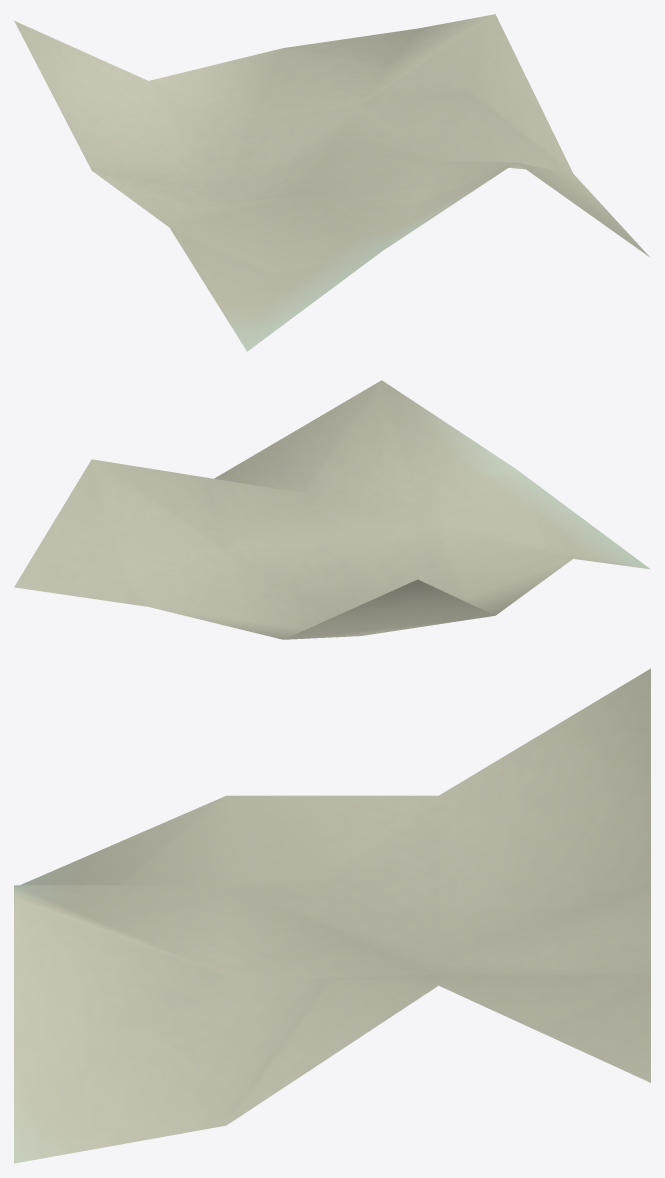
Rendered from trash03_mesh.fbx.
The picture shows the model from 3 angles, top to bottom: view 1: azimuth 30°, elevation 25°; view 2: azimuth 150°, elevation 25°; view 3: azimuth 270°, elevation 25°; orthographic projection. The views are drawn at different scales.
Visible parts, largest first — view 1: paper1; view 2: paper1; view 3: paper1.
Part boxes in pixels (x1=…): paper1: x1=14, y1=14, x2=650, y2=351; paper1: x1=14, y1=380, x2=650, y2=639; paper1: x1=14, y1=668, x2=650, y2=1163.
Size of the model in its own units: 1.78 by 0.6969 by 1.78.
